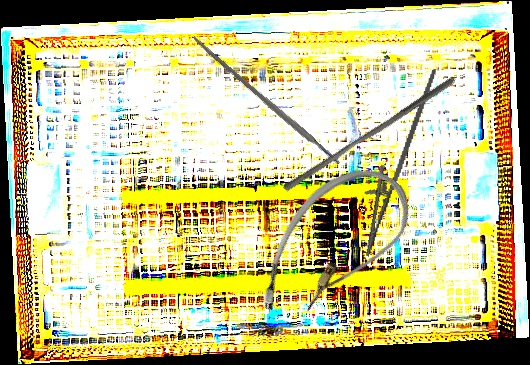Cannula: (241, 145, 426, 349)
Needle Holder: (350, 59, 438, 263)
Pusher: (281, 68, 458, 199)
Scalpel Handle: (190, 34, 342, 168)
